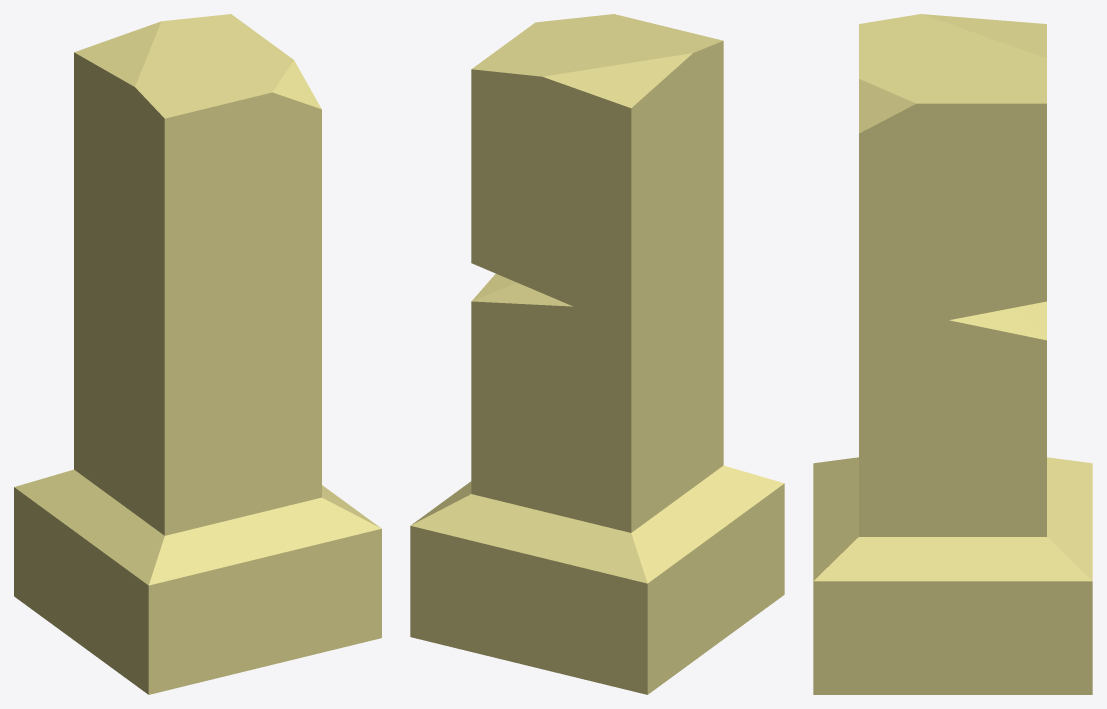
File: pillar4.obj
3 views of the same model, side by side, from view 1: azimuth 30°, elevation 25°; view 2: azimuth 150°, elevation 25°; view 3: azimuth 270°, elevation 25° (orthographic). The views are drawn at different scales.
Visible parts, largest first — view 1: plilla0; view 2: plilla0; view 3: plilla0.
Boxes of the visible parts, box(x1,y1,x2,y2) form: plilla0: box(14, 14, 381, 694); plilla0: box(410, 14, 784, 694); plilla0: box(813, 14, 1092, 694).
Size of the model in its own units: 1.62 by 3.71 by 1.62.
